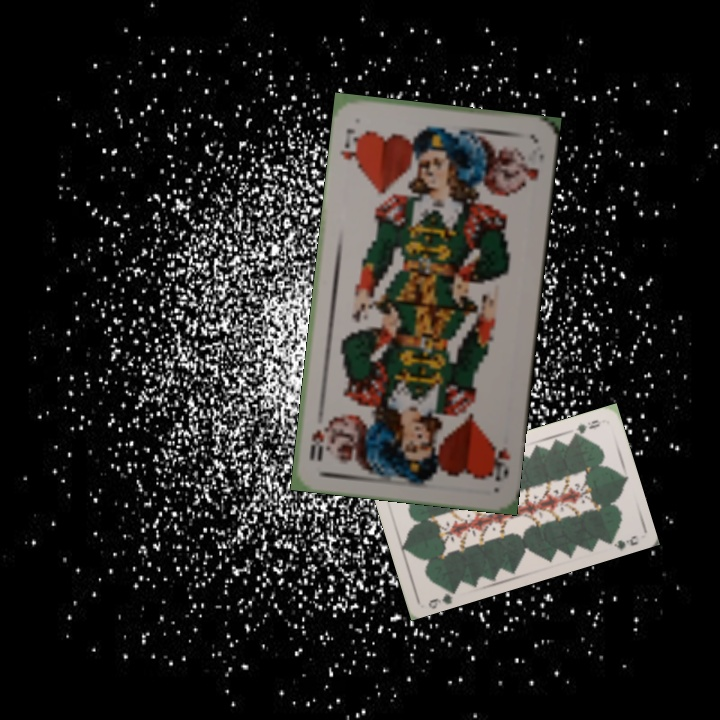G9: (424, 584, 459, 610), (568, 415, 604, 440)
HO: (336, 125, 364, 171), (486, 437, 513, 484)
